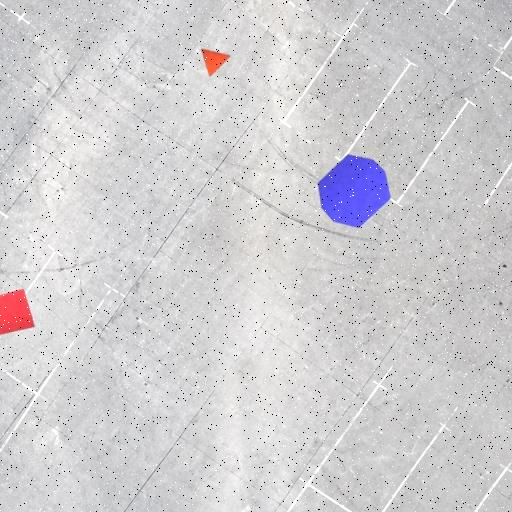RED_SQUARE: (0, 288, 36, 336)
